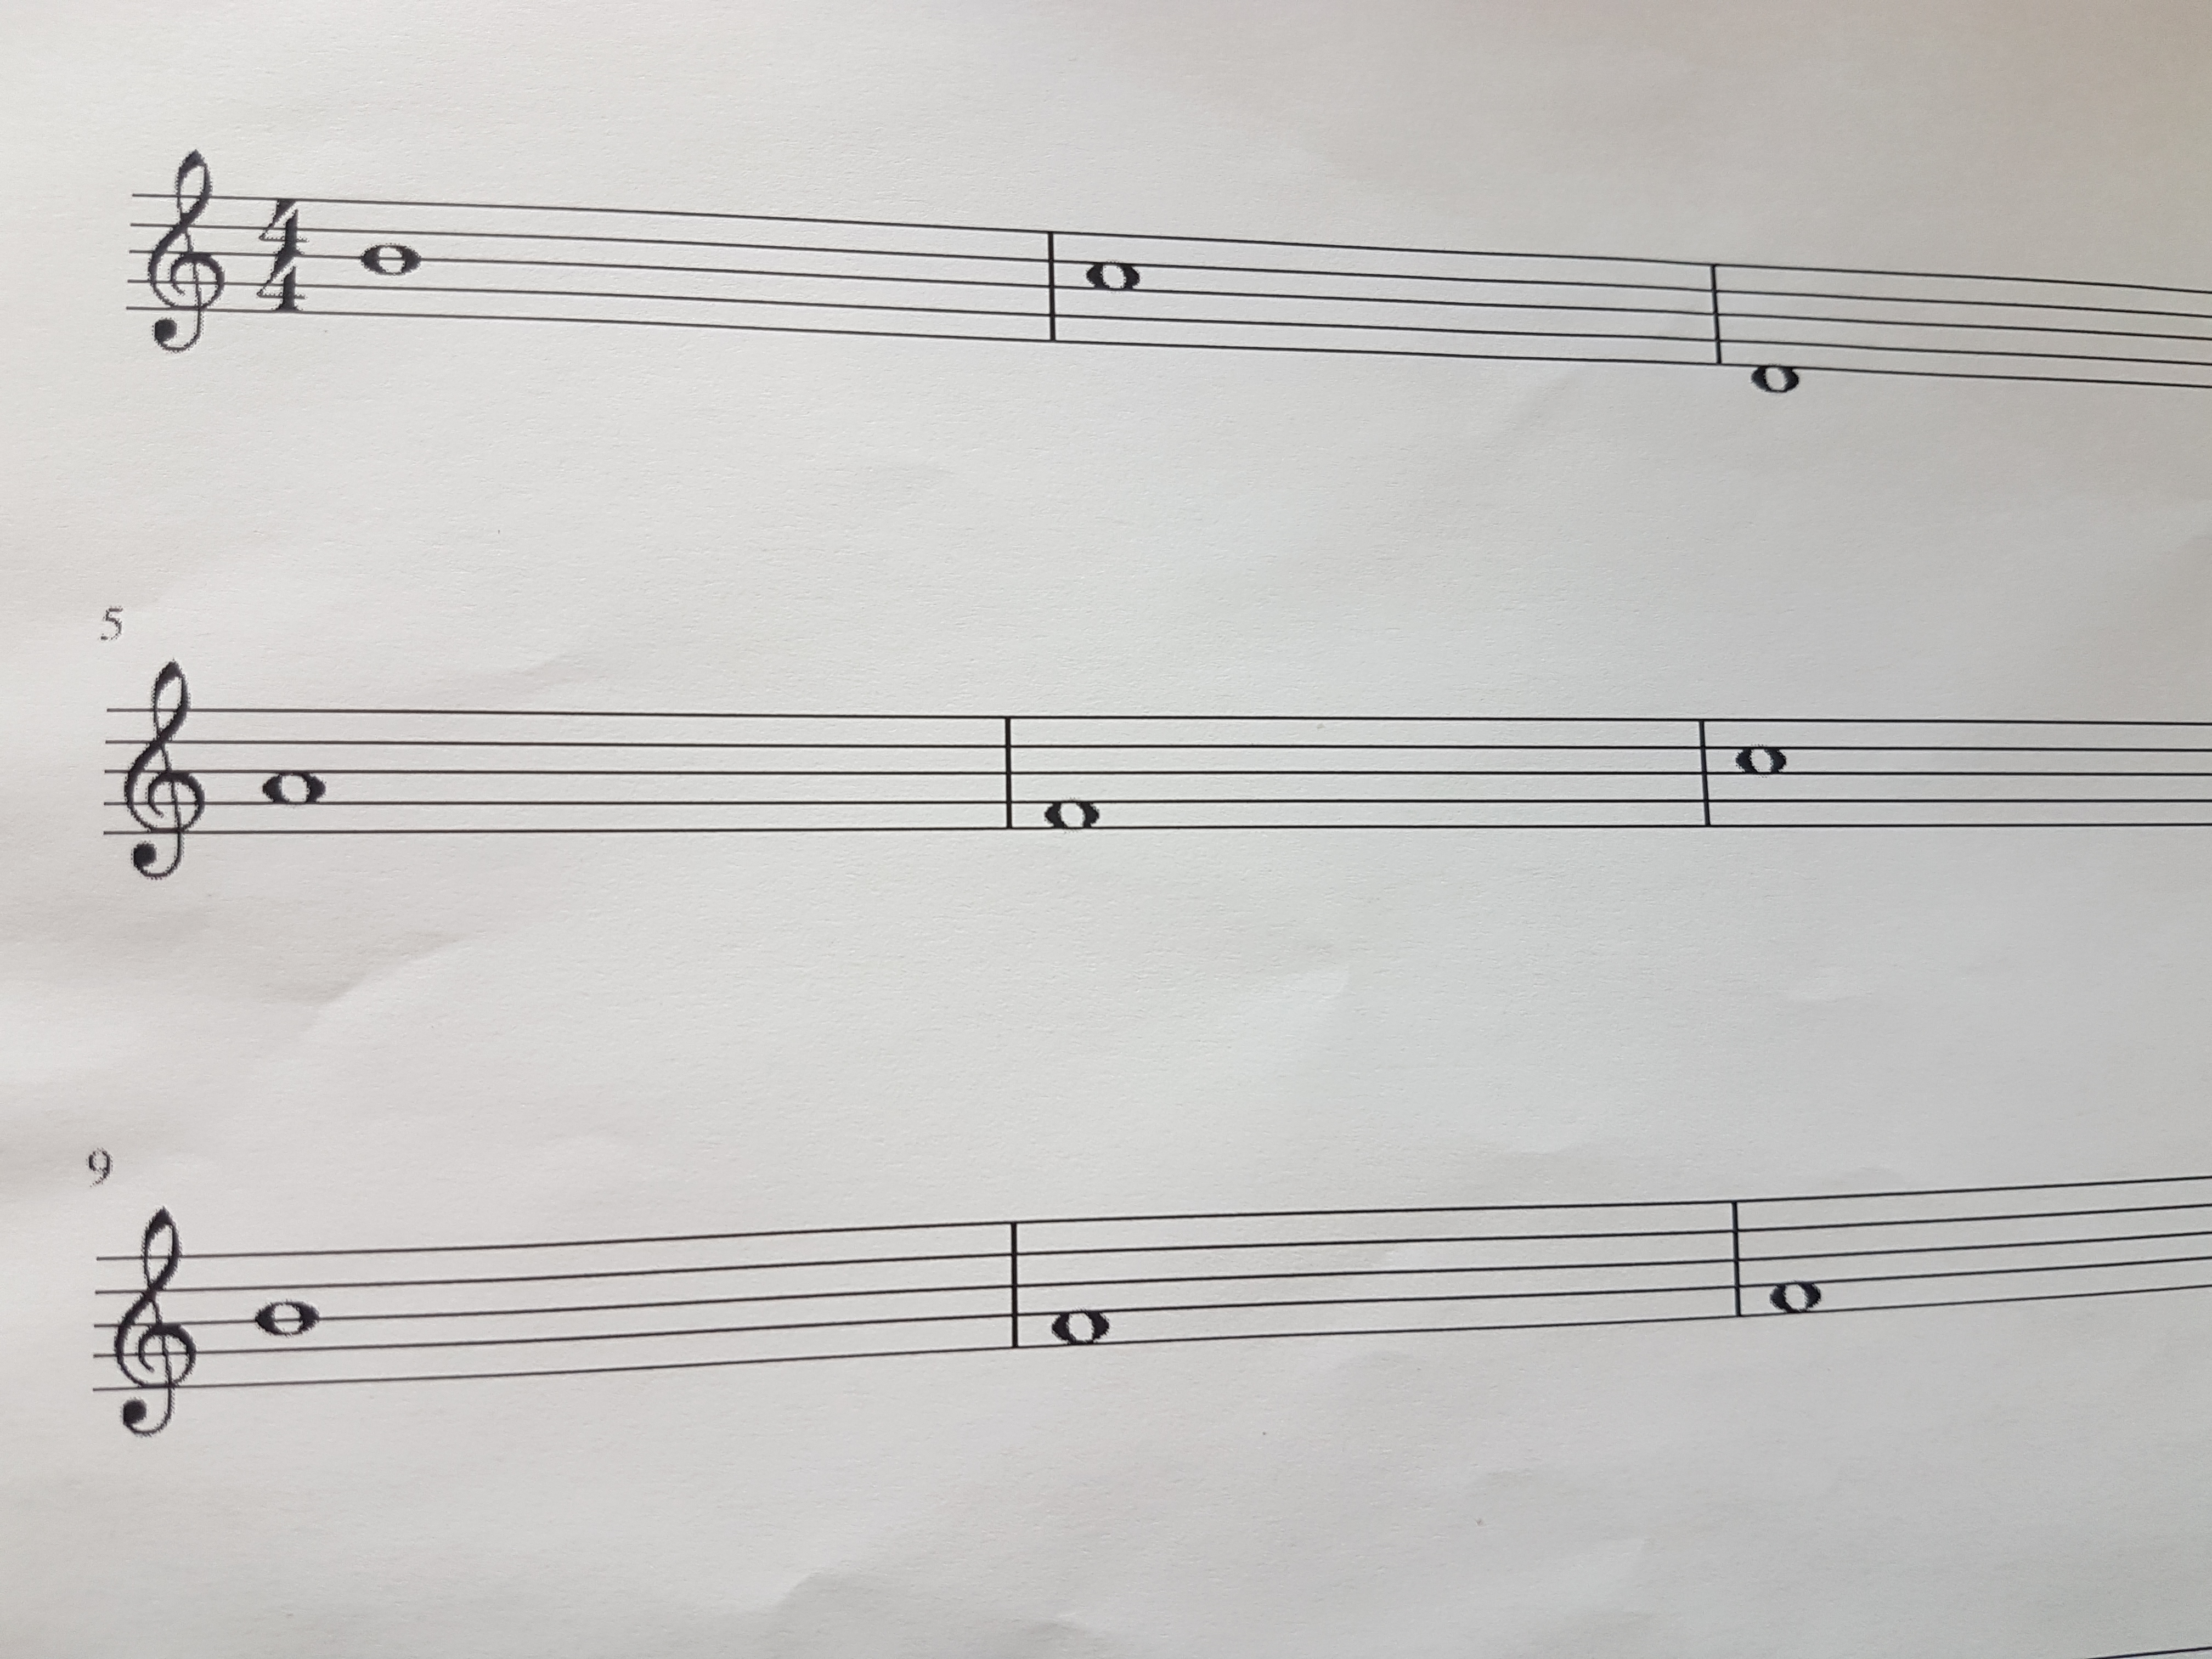key: (111, 1194, 202, 1453), (120, 650, 216, 892), (141, 136, 230, 368)
pipe: (1719, 1182, 1754, 1342), (998, 1208, 1031, 1368), (1688, 695, 1719, 847), (993, 701, 1024, 849), (1035, 214, 1066, 357), (1702, 246, 1731, 380)
semibreve_a: (251, 671, 333, 875)
semibreve_c: (1075, 193, 1148, 371), (1731, 678, 1791, 857)
semibreve_d: (1742, 234, 1808, 425)
semibreve_f: (1047, 1178, 1116, 1378), (1038, 685, 1106, 868), (1766, 1164, 1825, 1359)
semibreve_h: (246, 1227, 326, 1420), (354, 173, 427, 349)
